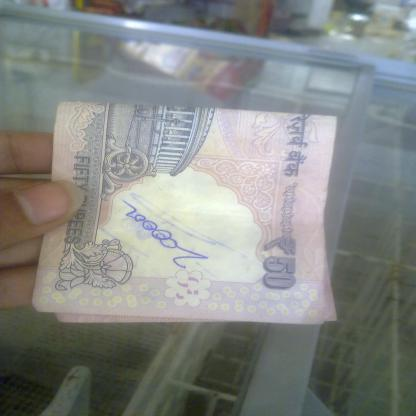Old50Back: (31, 101, 338, 325)
